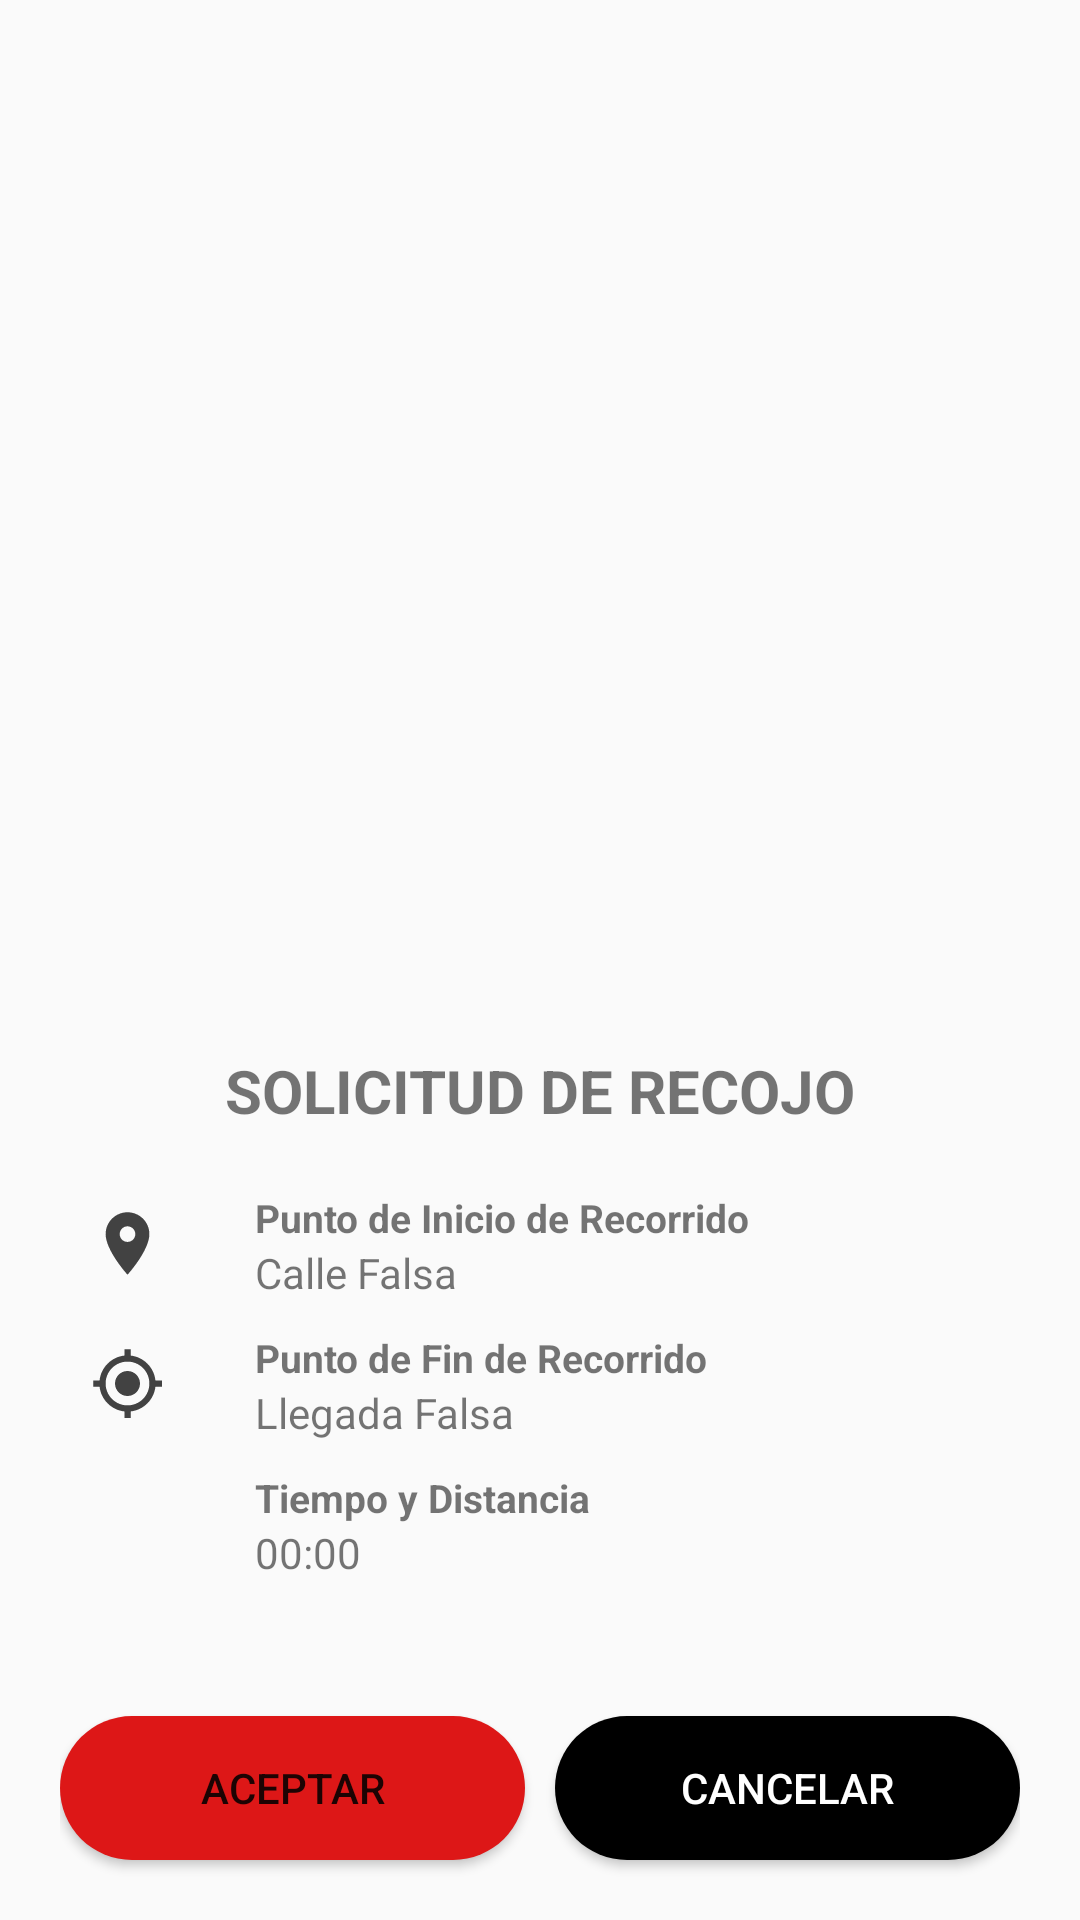

Point at icon controls on the screen. Image size 1080×1920, points as (x=x, y=y).
location: (x=127, y=1243), (x=127, y=1383)
